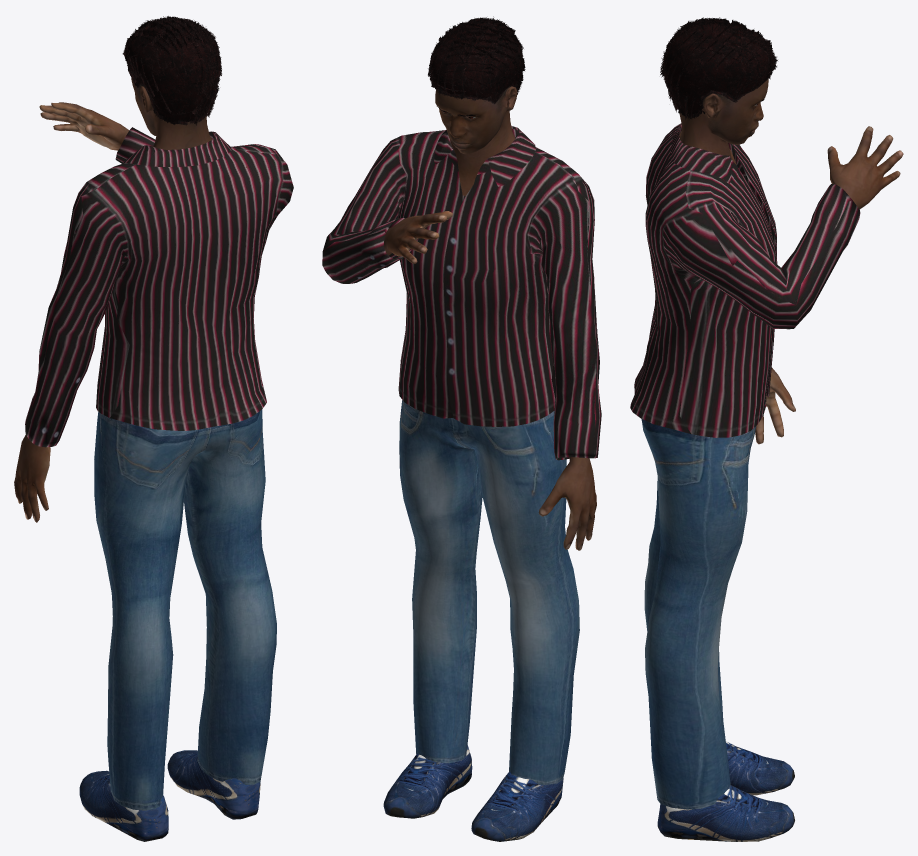
File: phone_1.gltf
3 renders of one model, left to right at view 1: azimuth 30°, elevation 25°; view 2: azimuth 150°, elevation 25°; view 3: azimuth 270°, elevation 25°, orthographic.
Visible parts, largest first — view 1: phone; view 2: phone; view 3: phone.
Part boxes in pixels (left/top/right/bottom): phone: left=14, top=16, right=293, bottom=841; phone: left=322, top=16, right=601, bottom=841; phone: left=630, top=17, right=903, bottom=841.
Size of the model in its own units: 0.6049 by 1.81 by 0.5668.
6 materials, 6 textured.
